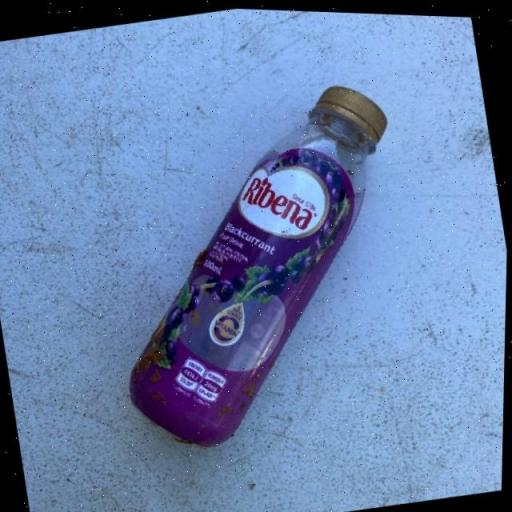plastic: (81, 64, 440, 464)
